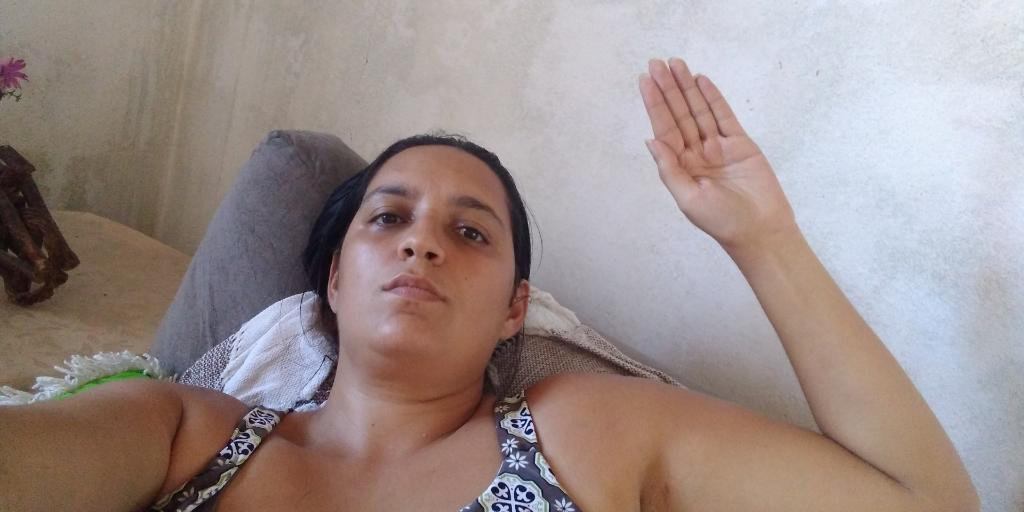stop: (626, 49, 794, 249)
